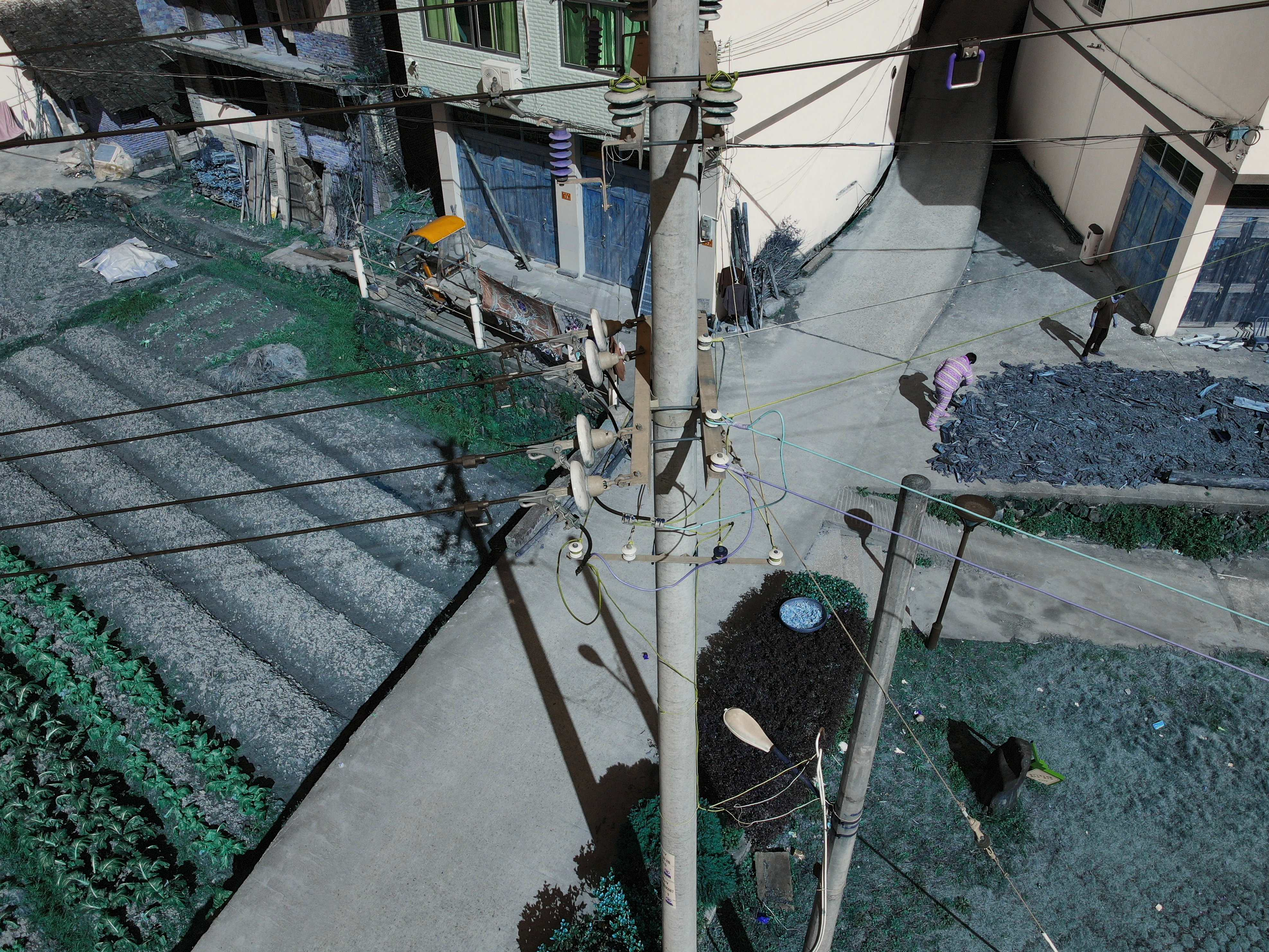severe_soiling_no_discharge_whole: (601, 78, 649, 128), (568, 459, 608, 519), (572, 412, 612, 470), (698, 78, 742, 128), (581, 339, 617, 387), (587, 304, 620, 354), (699, 0, 723, 22), (625, 2, 649, 24)
